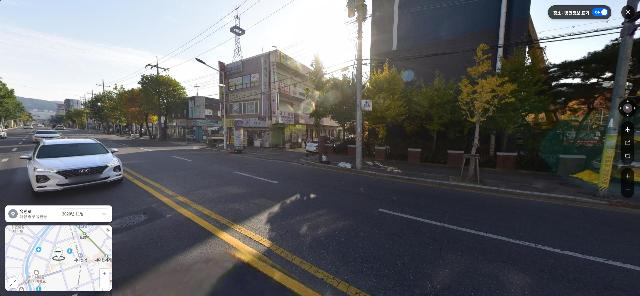ginkgo: (450, 43, 516, 183)
other: (537, 33, 639, 171), (495, 50, 552, 169), (296, 52, 358, 154), (403, 75, 466, 162), (361, 60, 413, 159), (134, 72, 188, 140), (115, 88, 148, 139)
